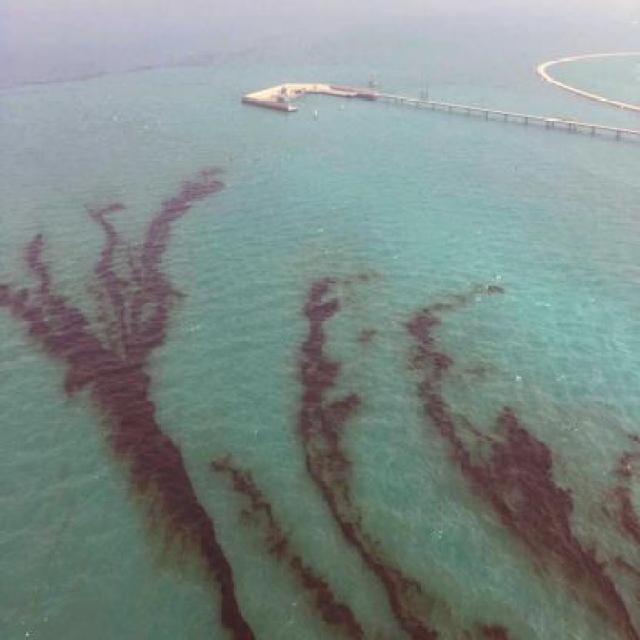truecolor: (0, 171, 255, 640), (409, 311, 640, 640), (298, 278, 438, 640)
